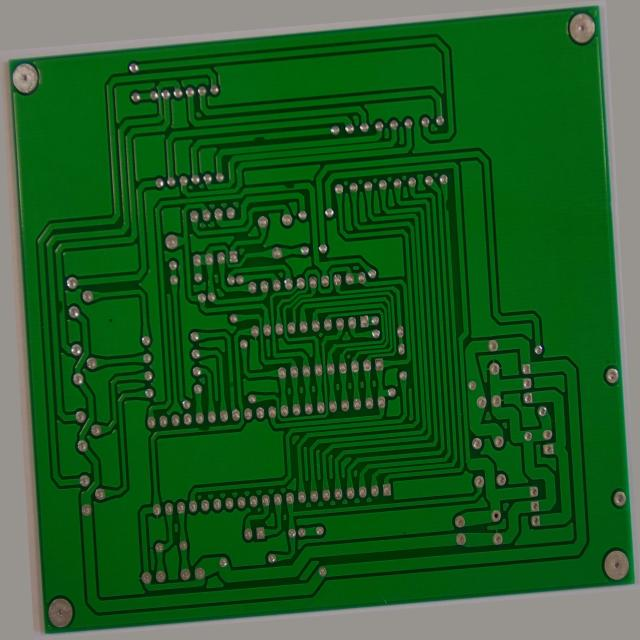mouse_bite: (257, 109, 276, 124), (44, 270, 54, 297), (287, 166, 305, 180), (456, 198, 466, 216), (182, 423, 200, 432)
